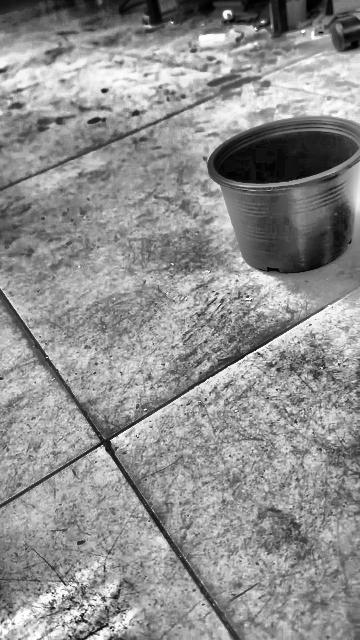pot: (207, 117, 360, 273)
